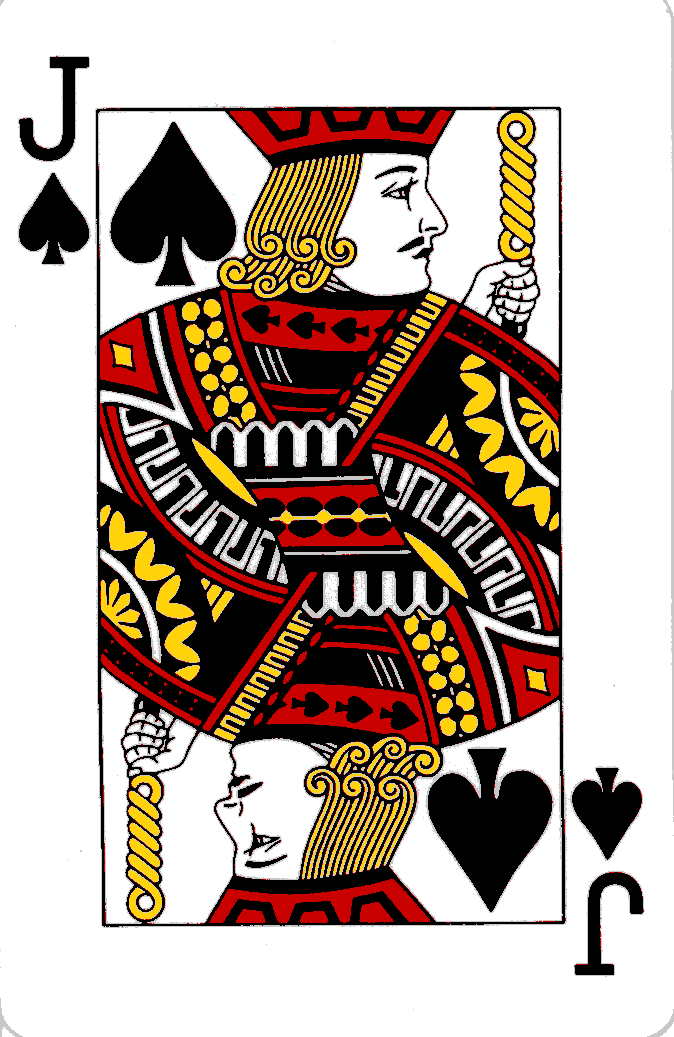jack of spades: (11, 19, 671, 1037)
